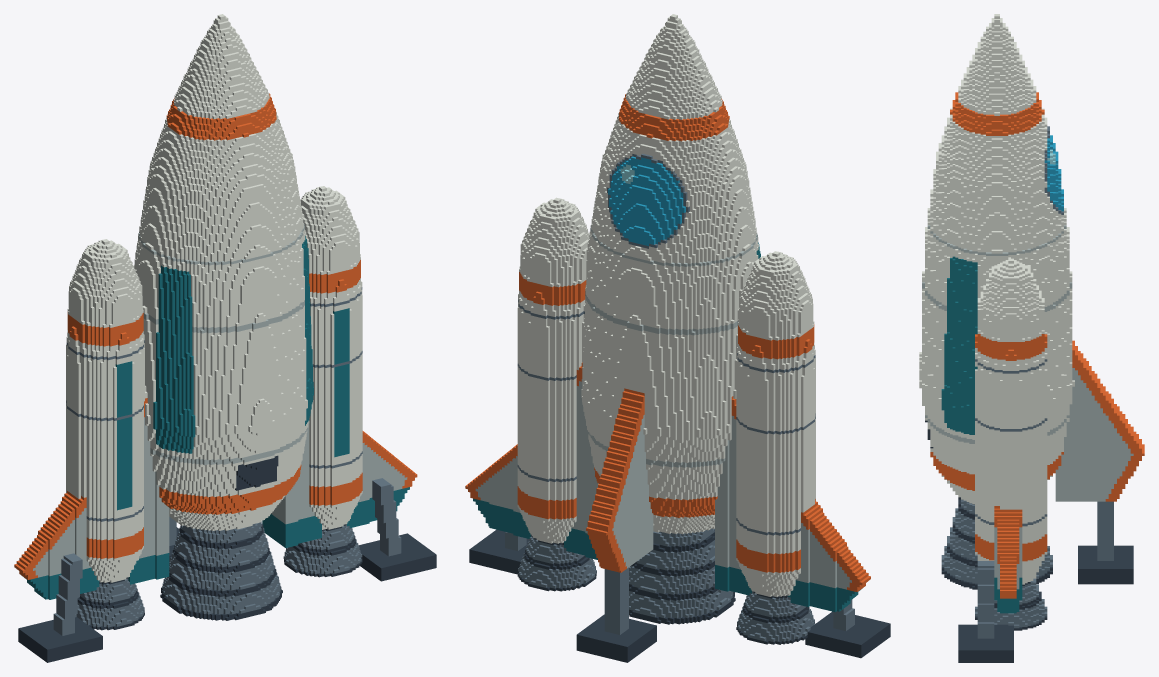
File: RocketShip.obj
3 views of the same model, side by side, from view 1: azimuth 30°, elevation 25°; view 2: azimuth 150°, elevation 25°; view 3: azimuth 270°, elevation 25° (orthographic). The views are drawn at different scales.
Bounding box in the file's own units: 15.6 × 22.1 × 8.1.
Materials: 1 (1 with a texture image).
